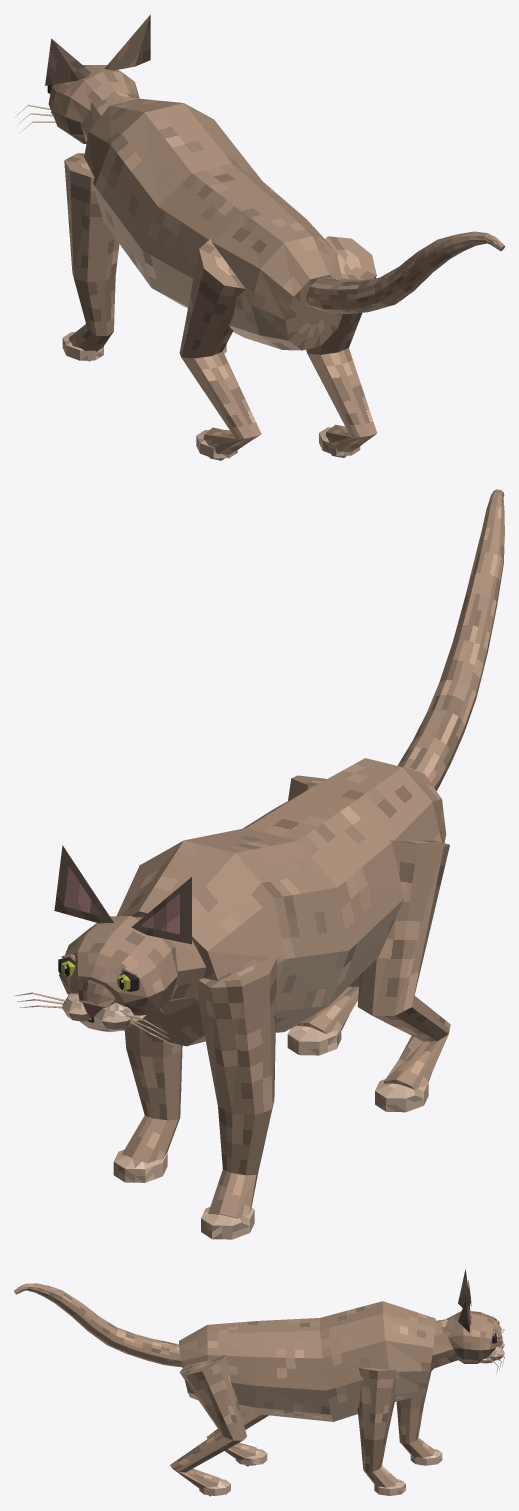
Rendered from mon_cat_devon_rex.glb.
3 views of the same model, one above another, from view 1: azimuth 30°, elevation 25°; view 2: azimuth 150°, elevation 25°; view 3: azimuth 270°, elevation 25° (orthographic). The views are drawn at different scales.
Visible parts, largest first — view 1: closed_body; view 2: closed_body; view 3: closed_body.
Boxes of the visible parts, x1,y1,x2,y2 form: closed_body: (14,14,504,460); closed_body: (14,489,504,1239); closed_body: (14,1269,504,1496).
Size of the model in its own units: 0.1692 by 0.3755 by 0.7834.
Materials: 1 (1 with a texture image).
